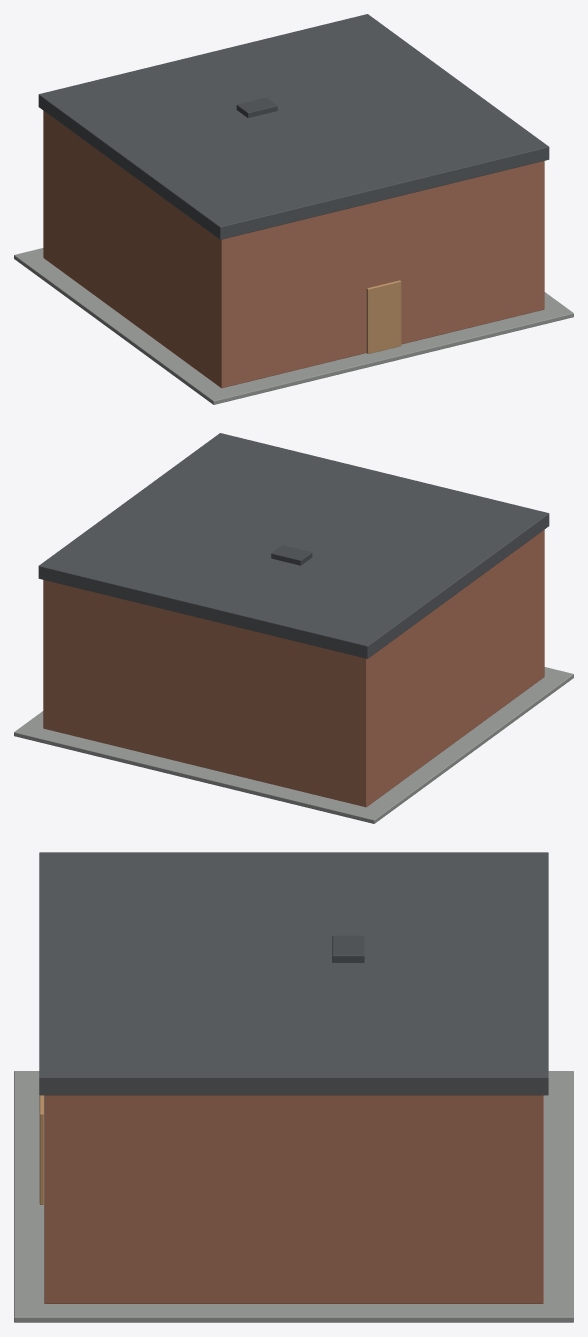
The model's file is Building_Residential_017.glb.
The picture shows the model from 3 angles, top to bottom: view 1: azimuth 30°, elevation 25°; view 2: azimuth 150°, elevation 25°; view 3: azimuth 270°, elevation 25°; orthographic projection. The views are drawn at different scales.
Visible parts, largest first — view 1: Building_Residential_017; view 2: Building_Residential_017; view 3: Building_Residential_017.
Part boxes in pixels (x1,y1,x2,y2): Building_Residential_017: (14, 14, 573, 404); Building_Residential_017: (14, 433, 573, 823); Building_Residential_017: (14, 852, 573, 1322).
Bounding box in the file's own units: 14.47 × 6.63 × 13.88.
